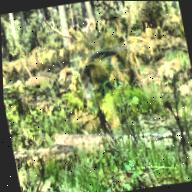boar: (66, 36, 147, 116)
